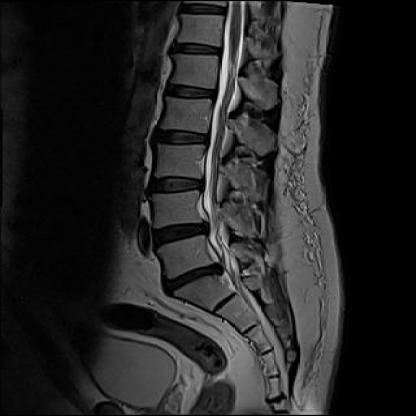Degenerative Disc Diseaserotation: (144, 218, 212, 248), (151, 266, 229, 290), (146, 172, 208, 195)
Disc Bulgerotation: (144, 218, 215, 249), (152, 266, 229, 288), (148, 171, 209, 196)
